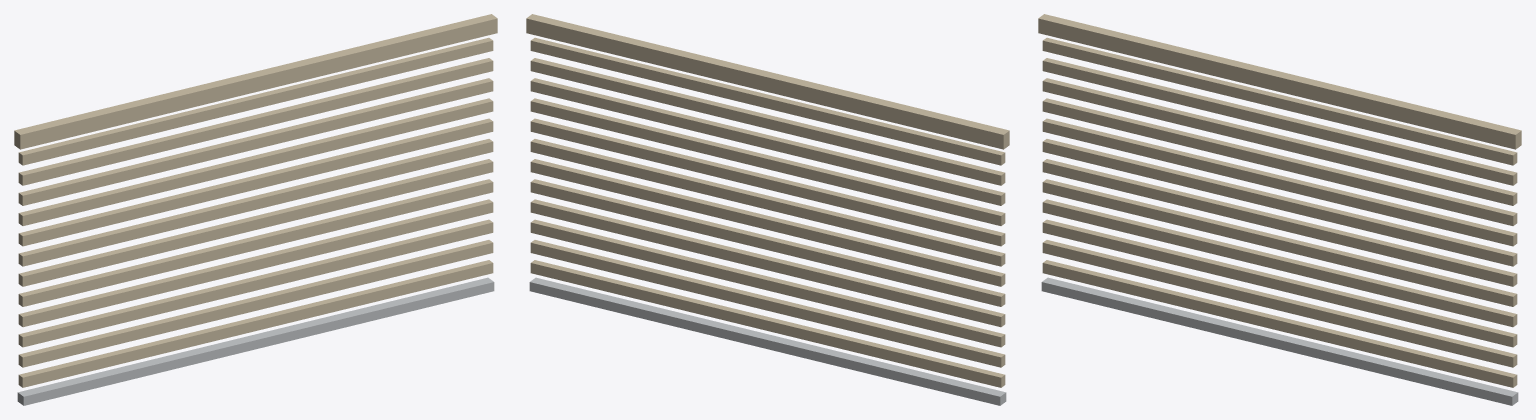
Rendered from window_blinds.glb.
The picture shows the model from 3 angles, left to right: view 1: azimuth 30°, elevation 25°; view 2: azimuth 150°, elevation 25°; view 3: azimuth 330°, elevation 25°; orthographic projection.
Visible parts, largest first — view 1: window_blinds; view 2: window_blinds; view 3: window_blinds.
Part boxes in pixels (x1=…): window_blinds: x1=14, y1=14, x2=497, y2=405; window_blinds: x1=526, y1=14, x2=1009, y2=405; window_blinds: x1=1038, y1=14, x2=1521, y2=405.
Bounding box in the file's own units: 1.36 × 0.74 × 0.03.
Materials: 1 (1 with a texture image).
